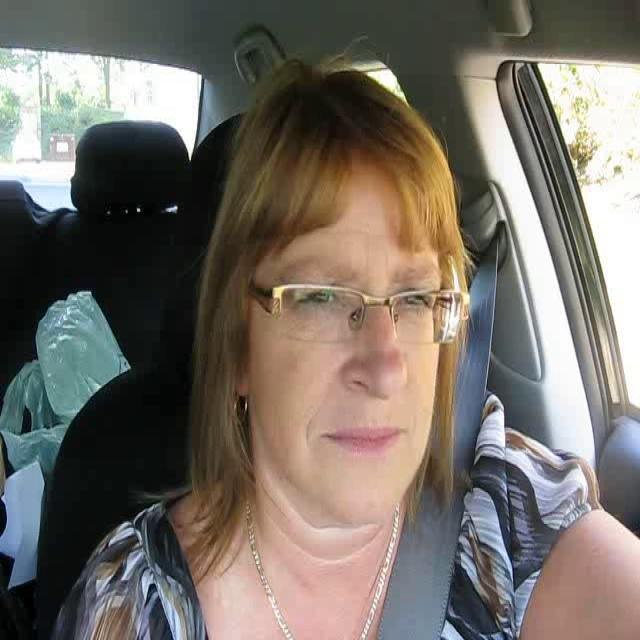close: (314, 418, 411, 461)
